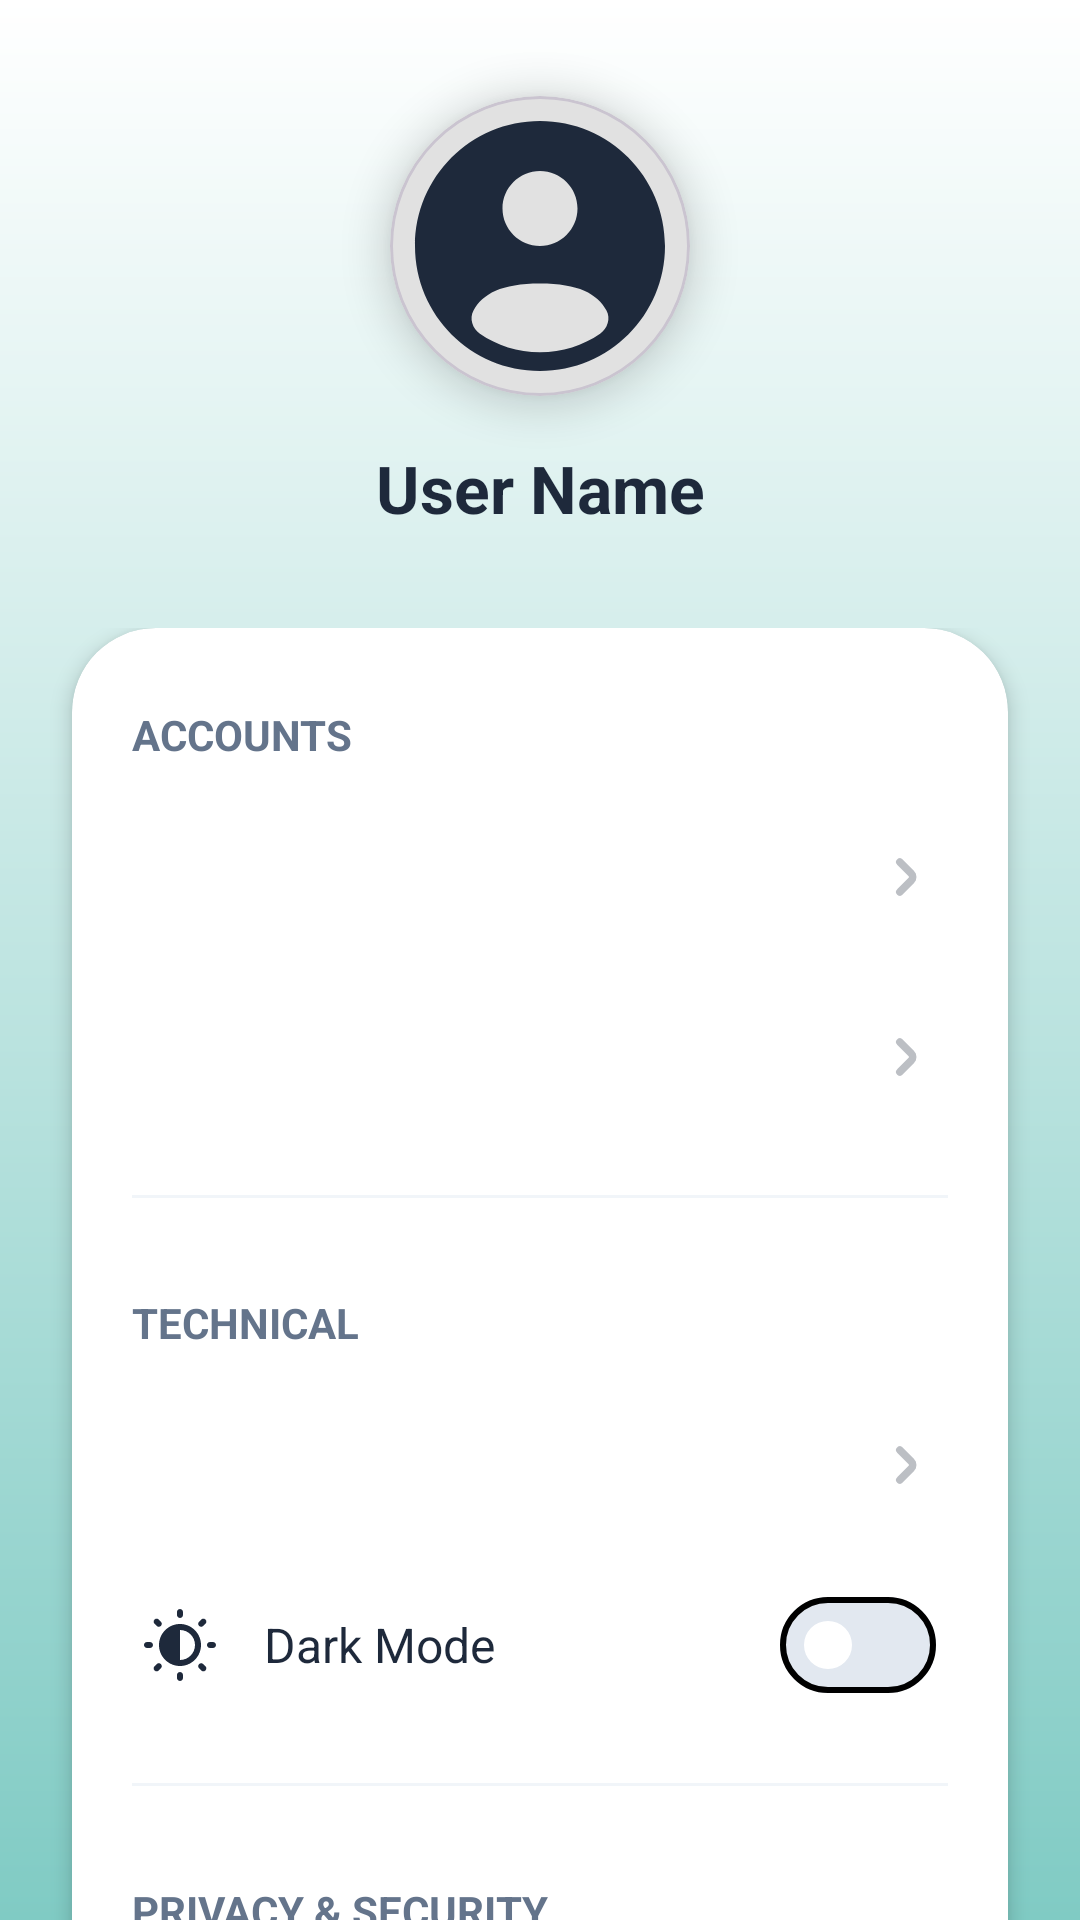

Named icons in this screenshot (1080*1920) and their bounding boxes, {"left": x1, "top": y1, "right": x2, "bottom": y2}:
brightness: {"left": 144, "top": 1609, "right": 216, "bottom": 1681}
